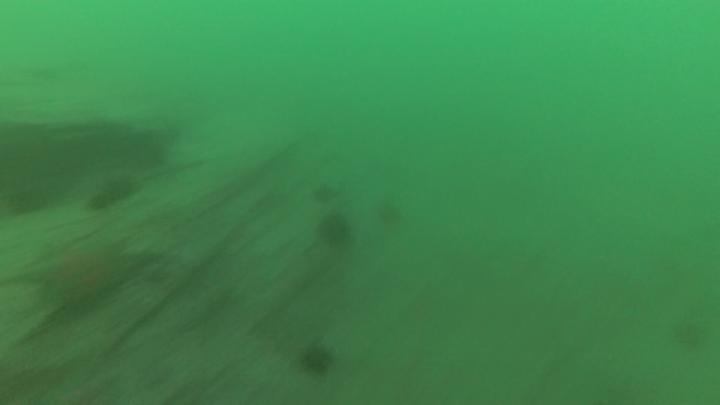echinus: (85, 172, 140, 213), (3, 182, 53, 220), (314, 210, 355, 250), (296, 339, 337, 379), (669, 314, 709, 354), (373, 197, 406, 232), (309, 180, 340, 207)
